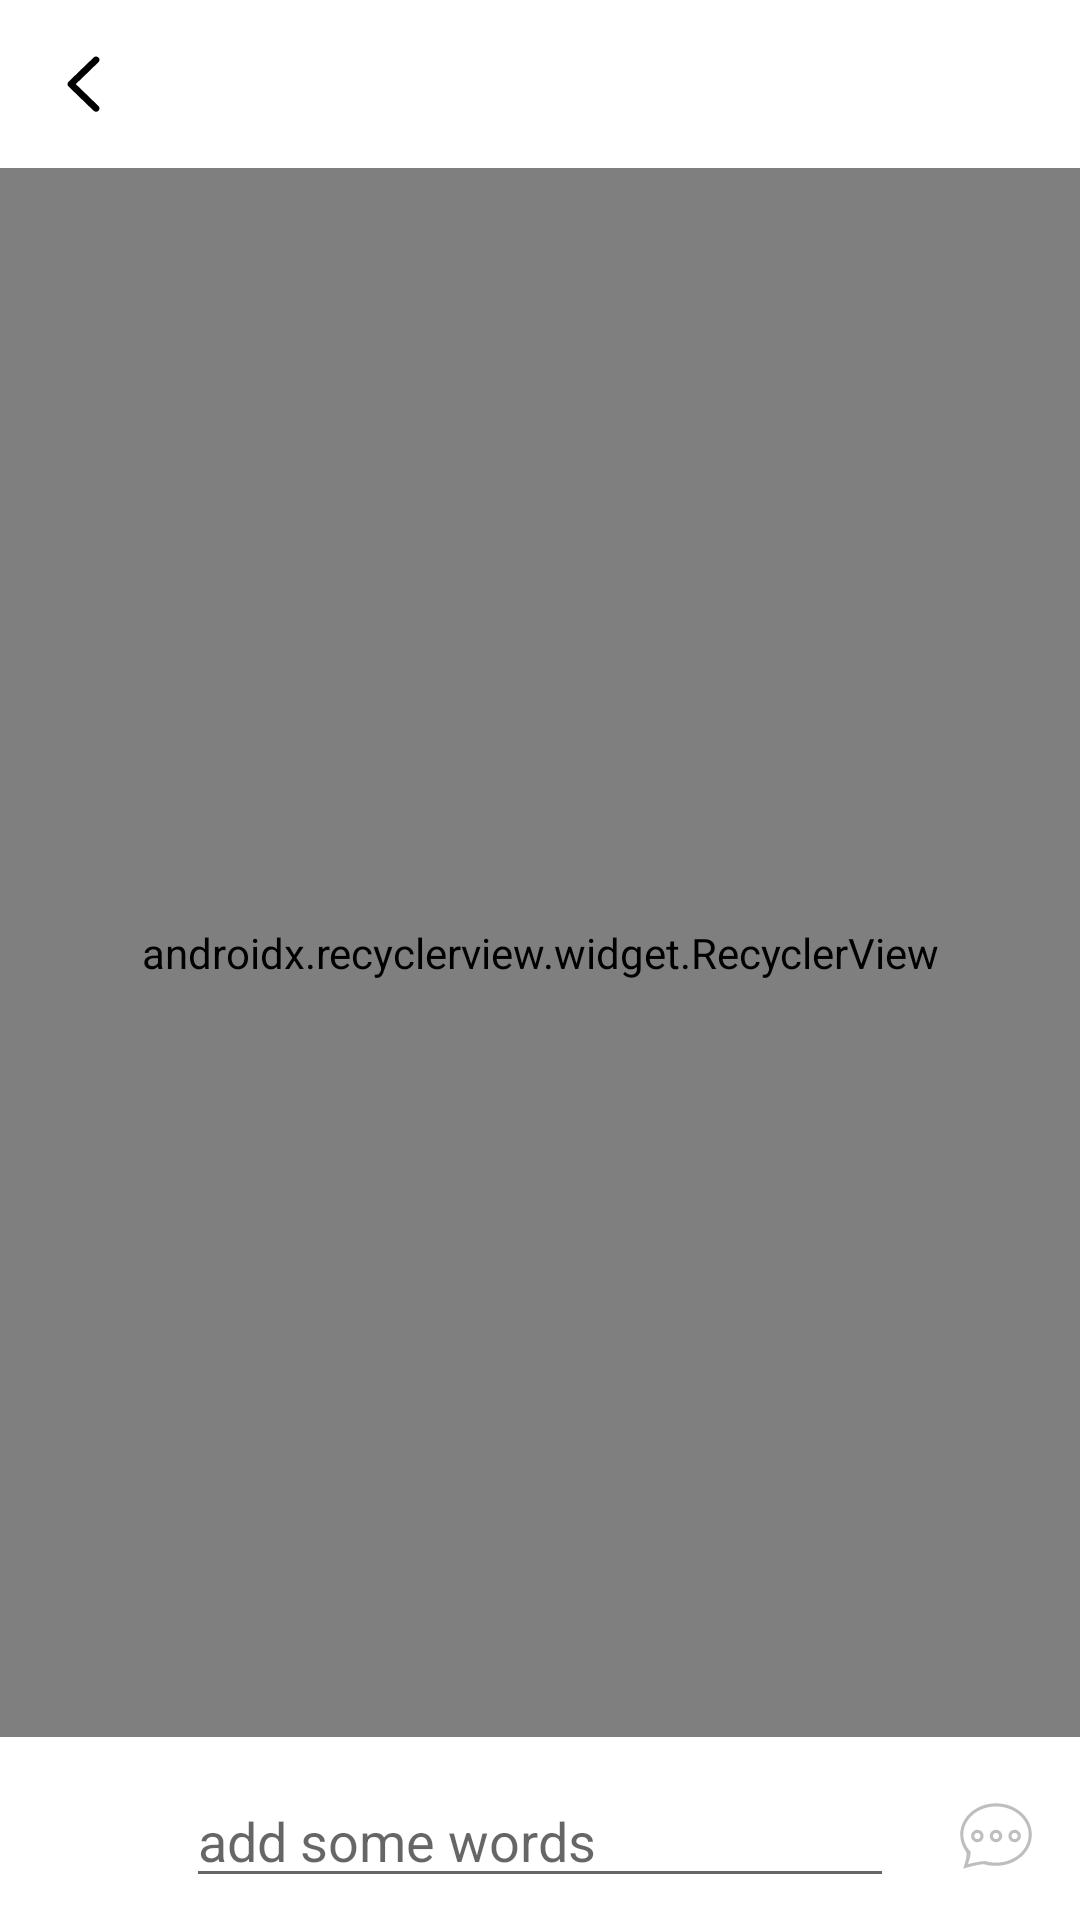

Icons on this 1080×1920 Android screen, each with its box as (x1, y1, x2, y2):
ali back: (67, 56, 100, 112)
ali message: (960, 1803, 1032, 1869)
